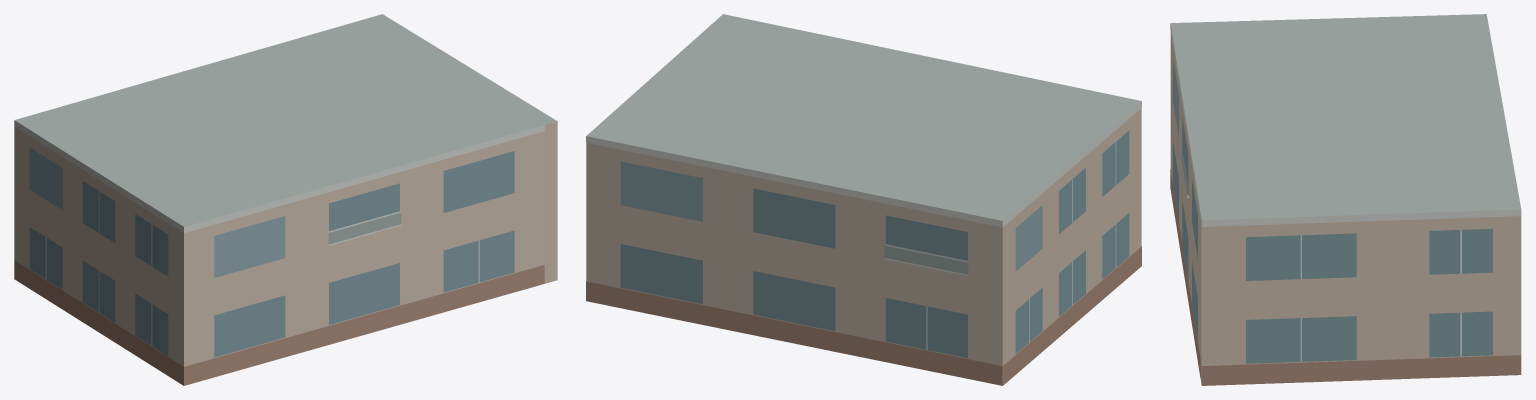
The model's file is survey-upis-32757123.glb.
3 views of the same model, side by side, from view 1: azimuth 30°, elevation 25°; view 2: azimuth 150°, elevation 25°; view 3: azimuth 270°, elevation 25° (orthographic). The views are drawn at different scales.
Visible parts, largest first — view 1: survey-upis-32757123.tmp; view 2: survey-upis-32757123.tmp; view 3: survey-upis-32757123.tmp.
Boxes of the visible parts, x1,y1,x2,y2 form: survey-upis-32757123.tmp: (14,14,557,385); survey-upis-32757123.tmp: (586,14,1141,385); survey-upis-32757123.tmp: (1170,14,1521,385).
Bounding box in the file's own units: 16.33 × 6.1 × 11.73.
